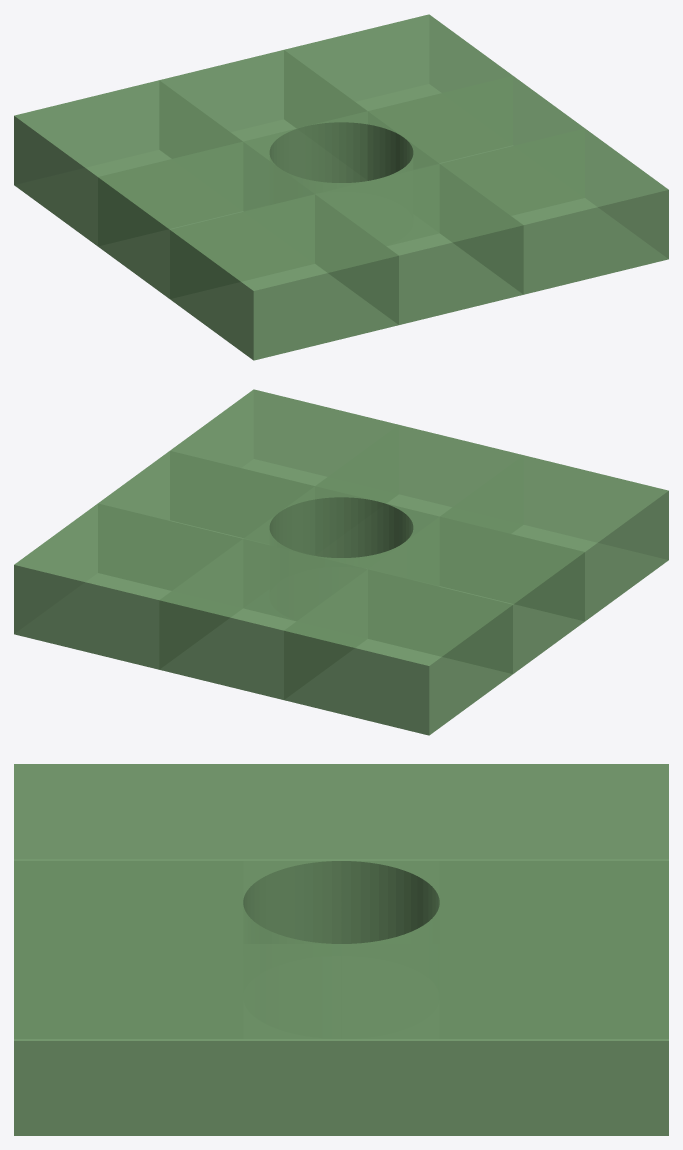
File: board.glb
The picture shows the model from 3 angles, top to bottom: view 1: azimuth 30°, elevation 25°; view 2: azimuth 150°, elevation 25°; view 3: azimuth 270°, elevation 25°; orthographic projection. The views are drawn at different scales.
Visible parts, largest first — view 1: Substrate_Layer_0_Z0; view 2: Substrate_Layer_0_Z0; view 3: Substrate_Layer_0_Z0.
Part boxes in pixels (<box>): Substrate_Layer_0_Z0: <box>14,14,668,360</box>; Substrate_Layer_0_Z0: <box>14,389,668,735</box>; Substrate_Layer_0_Z0: <box>14,764,668,1135</box>.
Size of what is drawn, in the model's own units: 0.01 by 0.0016 by 0.01.
